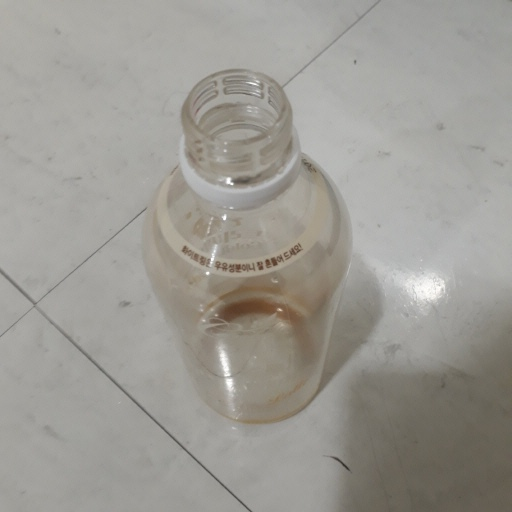Plastic_0: (140, 69, 357, 426)
